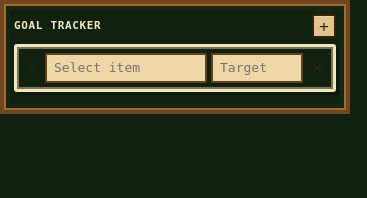
it: GoalSection › starts with one draft row and adds another row with the plus button
Expected: the number of fields with placeholder "Select item" is 1, top-left (45, 53), bottom-right (207, 83)
Click the button named "Add goal". click: (324, 26)
box: top-left (312, 14), bottom-right (336, 38)
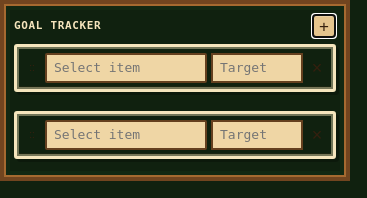
Expected: the number of fields with placeholder "Select item" is 2, top-left (45, 53), bottom-right (207, 83); top-left (45, 120), bottom-right (207, 150)
